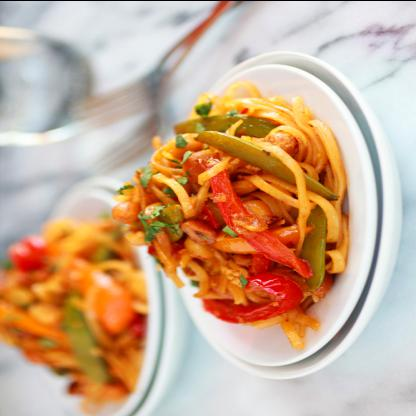Pad Thai: (103, 68, 365, 353)
